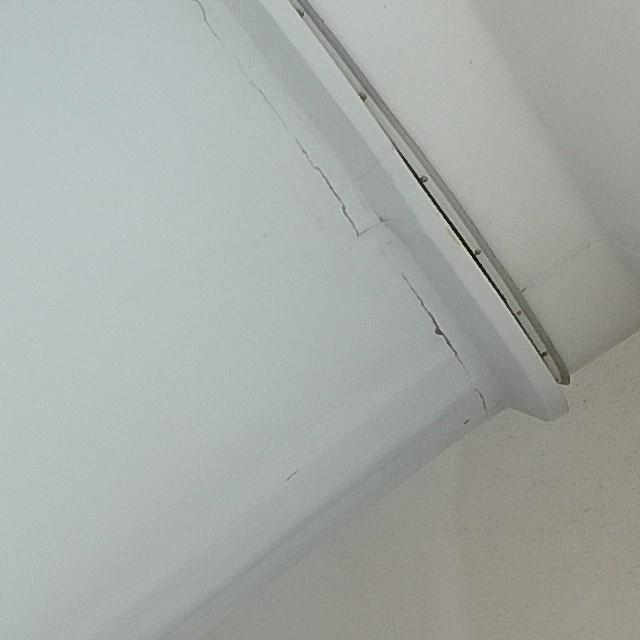Crack: (244, 85, 365, 251), (390, 268, 486, 372), (189, 1, 262, 82), (456, 377, 493, 420)
